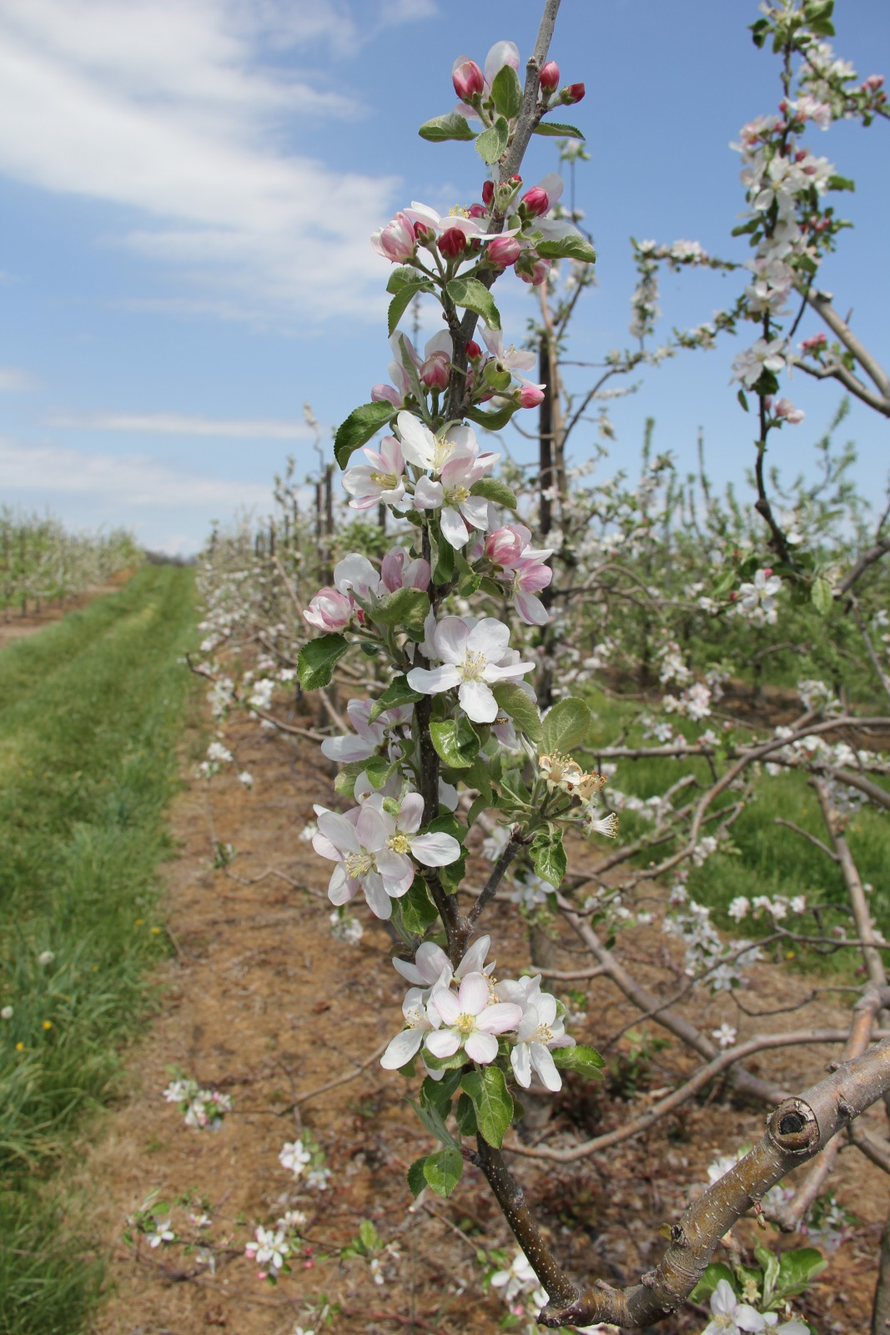flower: (342, 411, 552, 626), (386, 935, 582, 1092), (312, 768, 461, 920), (740, 149, 837, 314), (410, 604, 537, 723), (701, 1280, 811, 1335), (321, 699, 412, 764), (304, 553, 380, 629), (404, 201, 496, 261), (477, 313, 541, 385), (452, 41, 520, 100), (491, 1245, 541, 1301), (736, 337, 787, 387), (383, 547, 432, 594), (244, 1226, 289, 1272), (739, 569, 786, 612), (522, 173, 565, 218), (420, 330, 454, 384), (741, 115, 790, 152), (797, 89, 842, 123), (279, 1139, 320, 1174), (380, 221, 413, 264), (491, 713, 522, 755), (145, 1217, 182, 1252), (487, 237, 521, 270), (775, 398, 805, 425), (541, 219, 576, 242), (388, 360, 410, 396), (541, 63, 558, 89), (371, 384, 393, 402), (570, 83, 586, 103), (390, 335, 401, 355), (563, 1068, 575, 1076)
